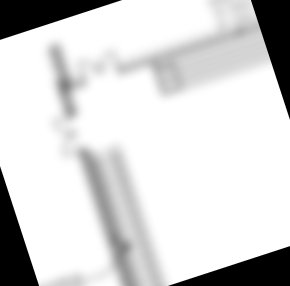double door: (50, 112, 86, 160), (75, 48, 122, 83)
wall: (81, 145, 141, 286), (114, 21, 261, 76), (51, 40, 75, 87)
